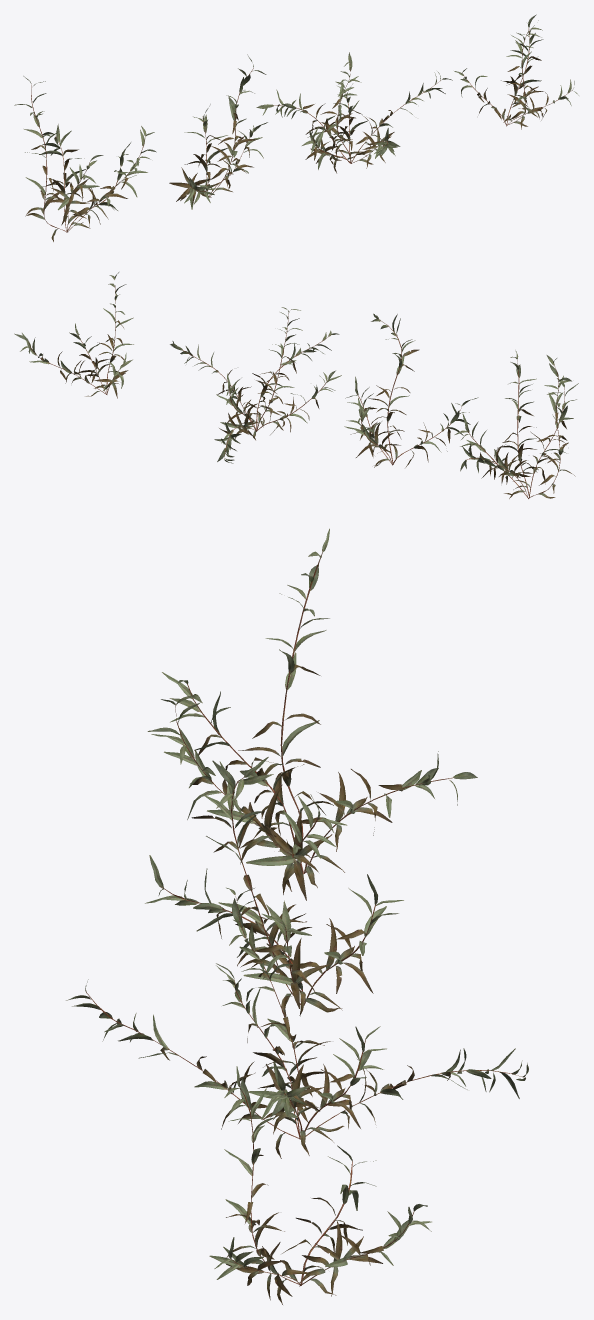
The model's file is shrub_02.glb.
3 renders of one model, top to bottom at view 1: azimuth 30°, elevation 25°; view 2: azimuth 150°, elevation 25°; view 3: azimuth 270°, elevation 25°, orthographic. The views are drawn at different scales.
Parts seen in each view (by area): view 1: shrub_02_a; view 2: shrub_02_a; view 3: shrub_02_a.
Boxes of the visible parts, bbox=[...] form: shrub_02_a: bbox=[14, 14, 578, 241]; shrub_02_a: bbox=[14, 272, 578, 498]; shrub_02_a: bbox=[66, 528, 528, 1304].
Bounding box in the file's own units: 6.04 × 1.7 × 2.29.
Materials: 1 (1 with a texture image).
